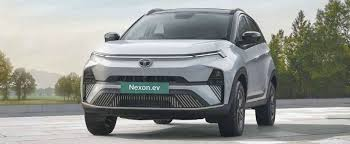Tata Nexon: (79, 5, 275, 137)
